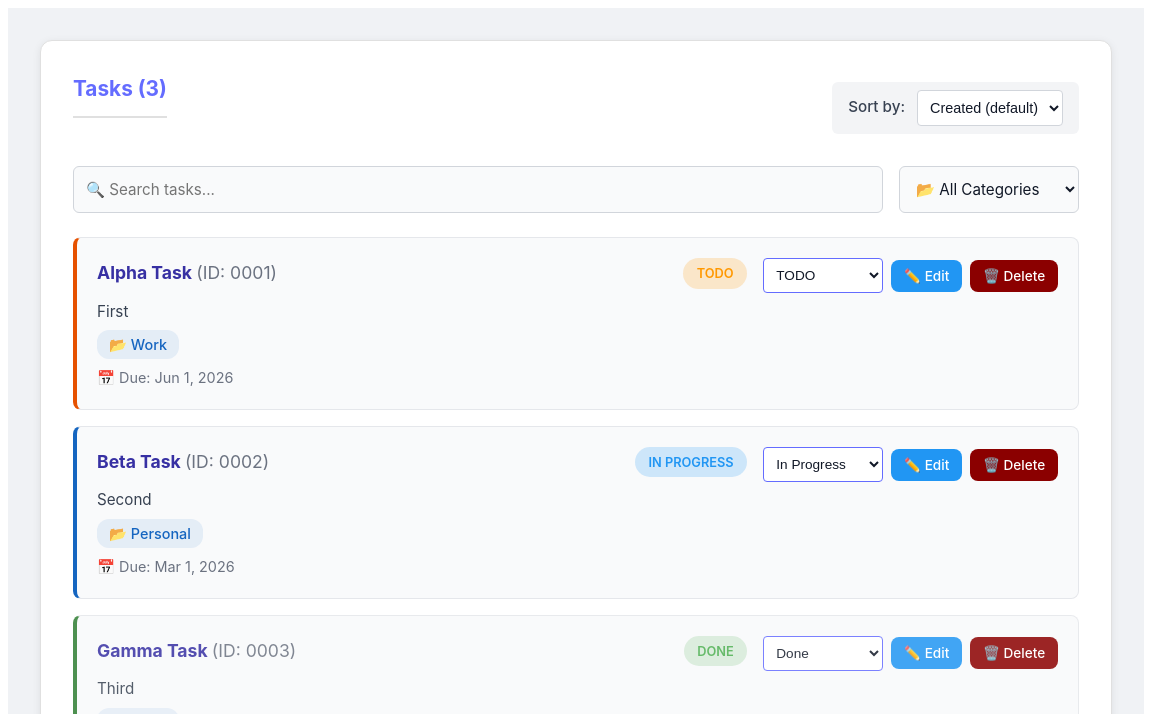
TaskList – search › filters tasks by title search term
In the field with placeholder "🔍 Search tasks...": (478, 190) [73, 166, 883, 213], type "Alpha"
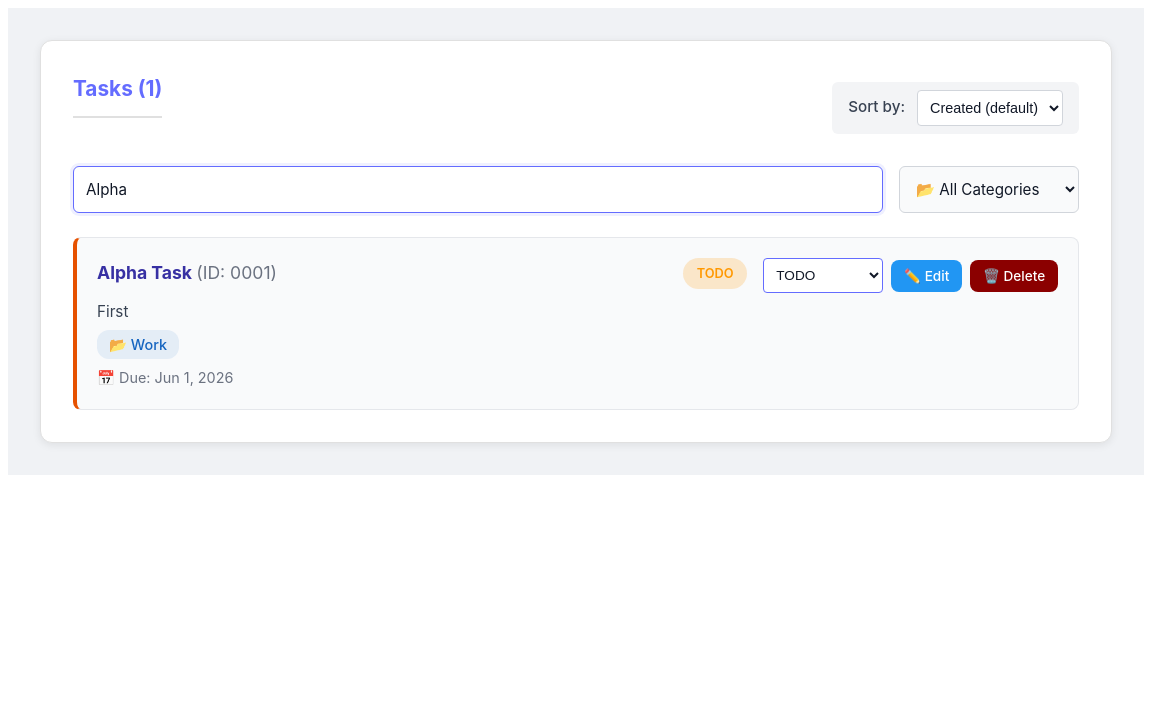
Expected: the heading "Alpha Task (ID: 0001)" is shown, [97, 262, 277, 283]
Expected: the heading "Beta Task" is gone
Expected: the heading "Gamma Task" is gone
